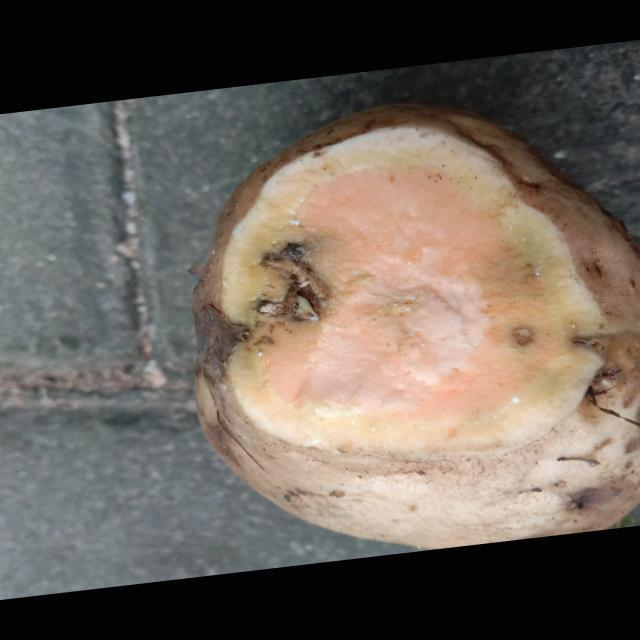Sick Sweet Potato_Tuber Rot: (208, 126, 605, 456)
